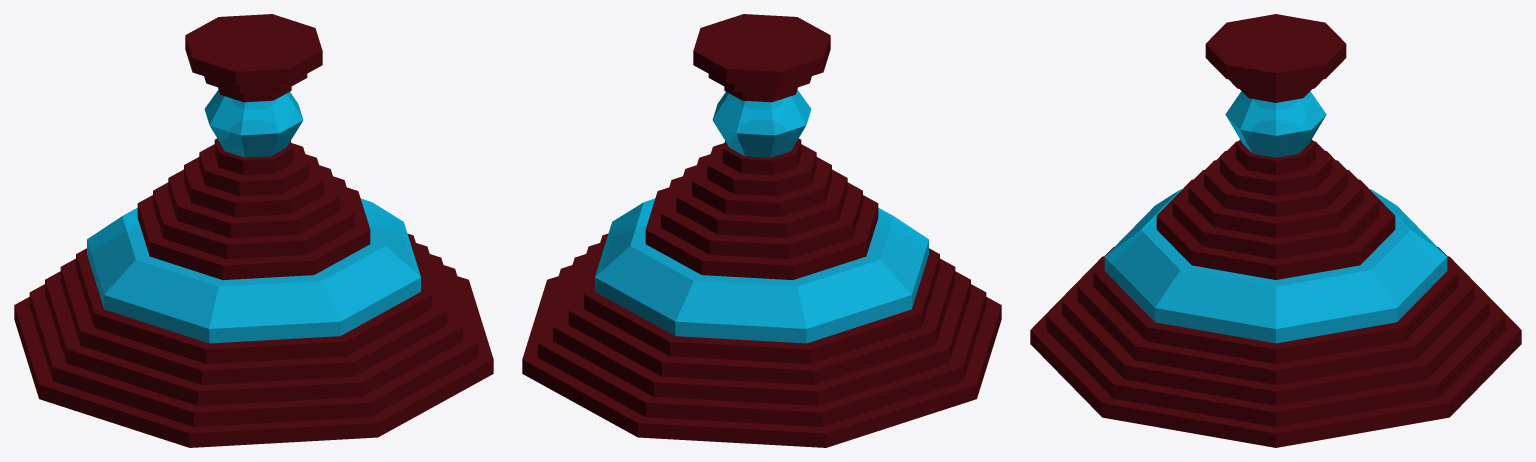
Rendered from reward pedistal.fbx.
The picture shows the model from 3 angles, left to right: view 1: azimuth 30°, elevation 25°; view 2: azimuth 150°, elevation 25°; view 3: azimuth 270°, elevation 25°; orthographic projection.
Visible parts, largest first — view 1: Pyramid; view 2: Pyramid; view 3: Pyramid.
Part boxes in pixels (box(x1,y1,x2,y2)): Pyramid: box(14, 14, 493, 447); Pyramid: box(522, 14, 1001, 447); Pyramid: box(1030, 14, 1521, 447).
Bounding box in the file's own units: 311 × 210 × 311.
